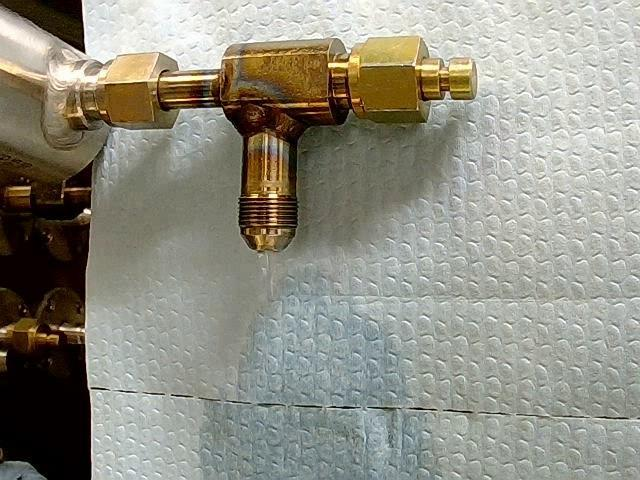water drop: (259, 251, 280, 308)
